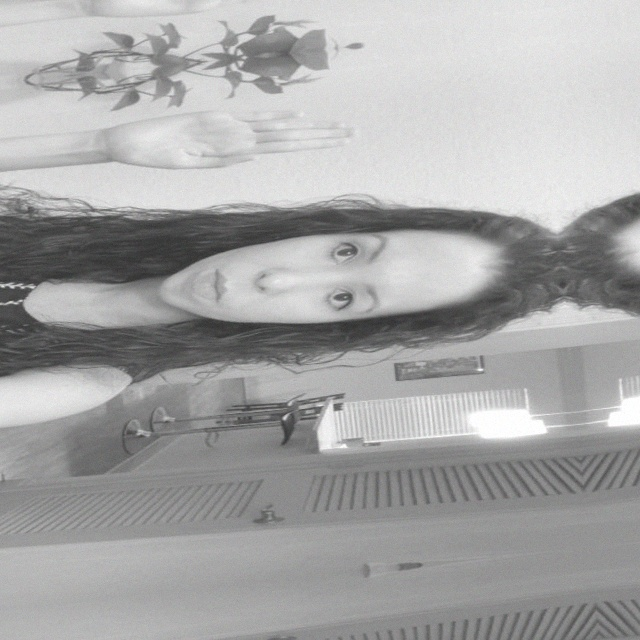Paper: (61, 0, 351, 29)
